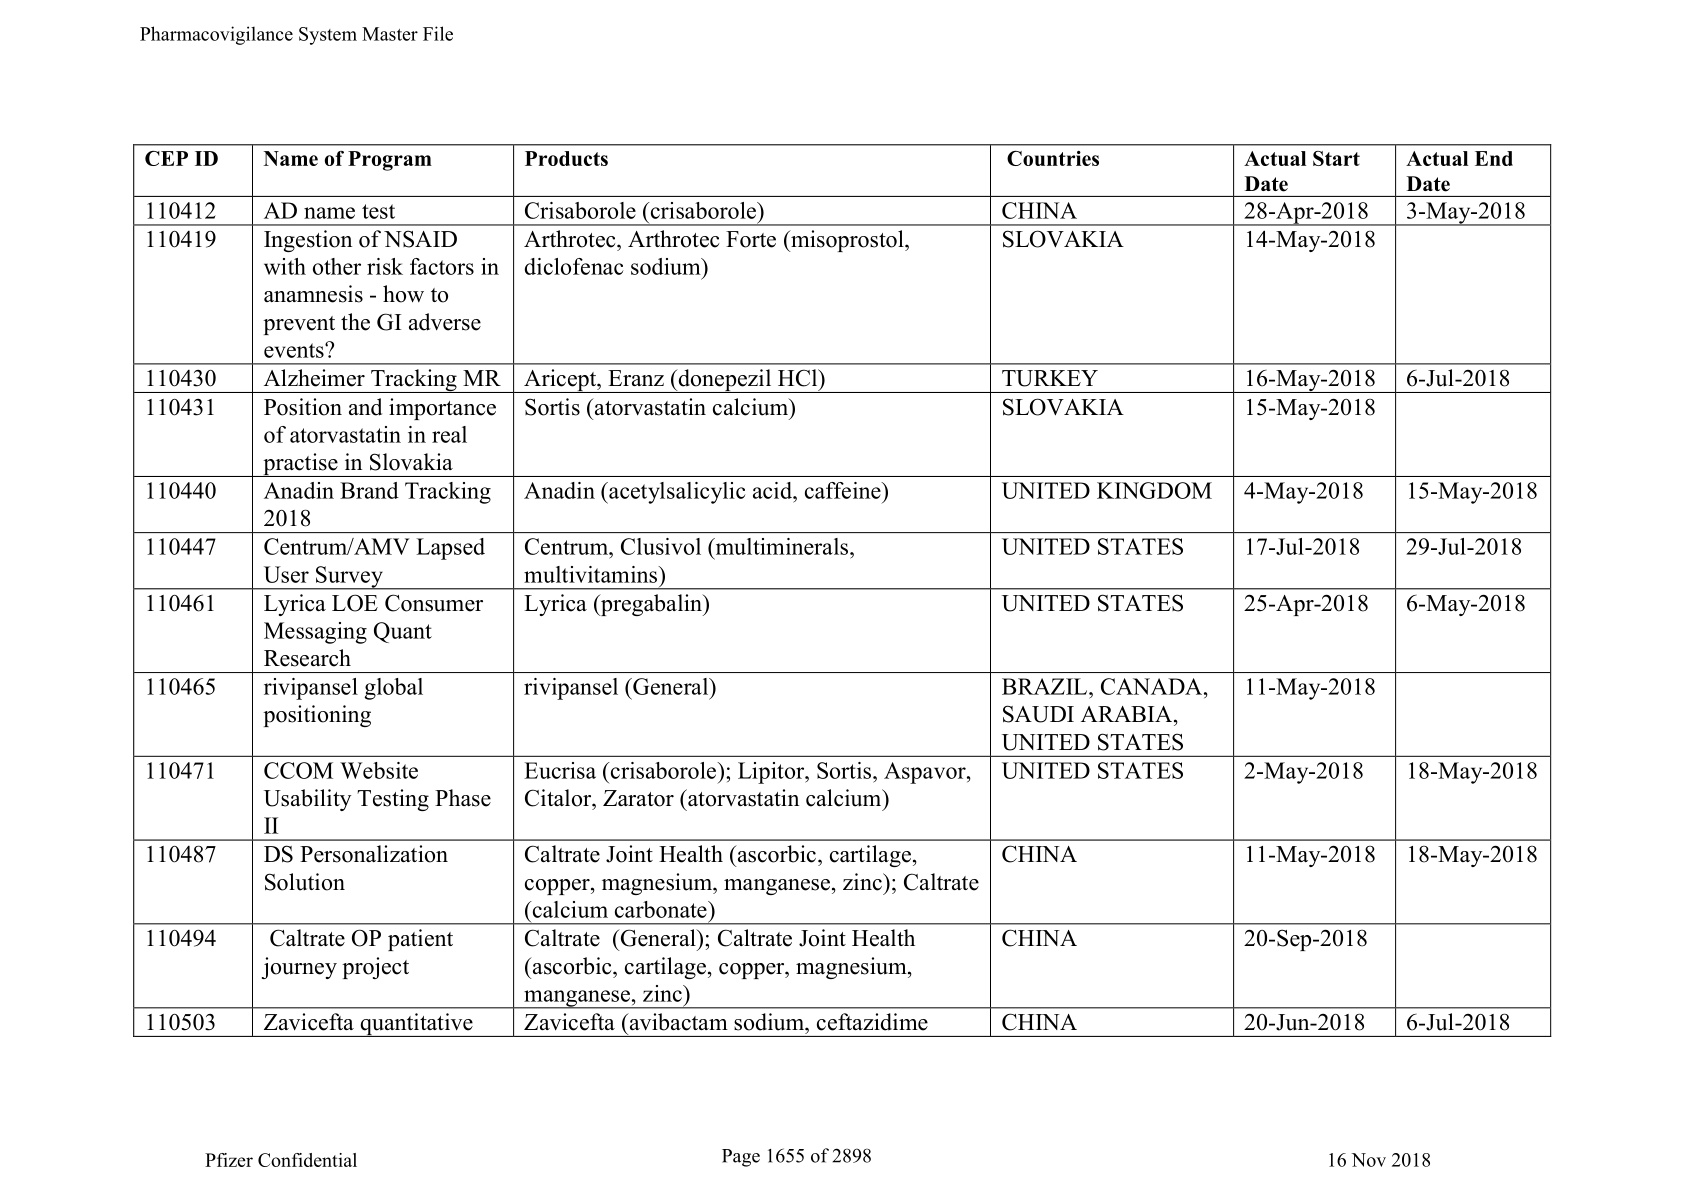full_lined: (133, 144, 1552, 1038)
